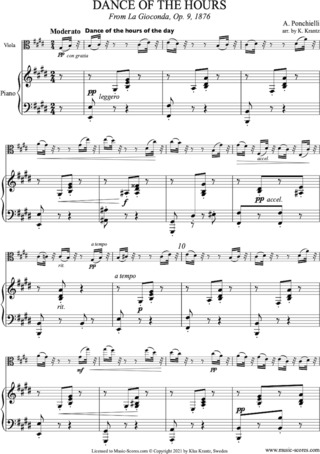Partitura: (0, 0, 320, 444)
